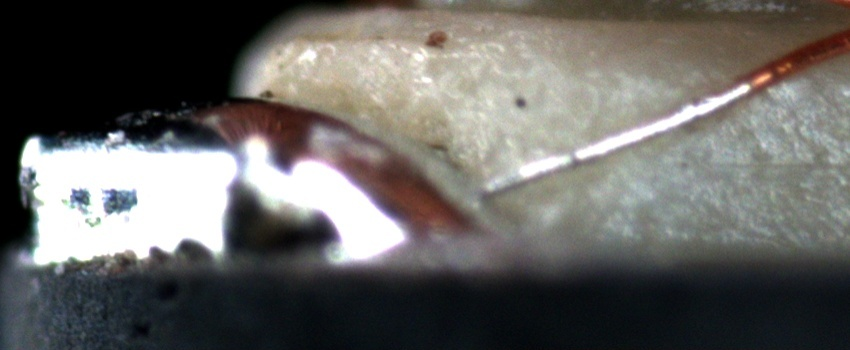DL: (670, 135, 850, 195)
TS: (479, 82, 750, 194)
